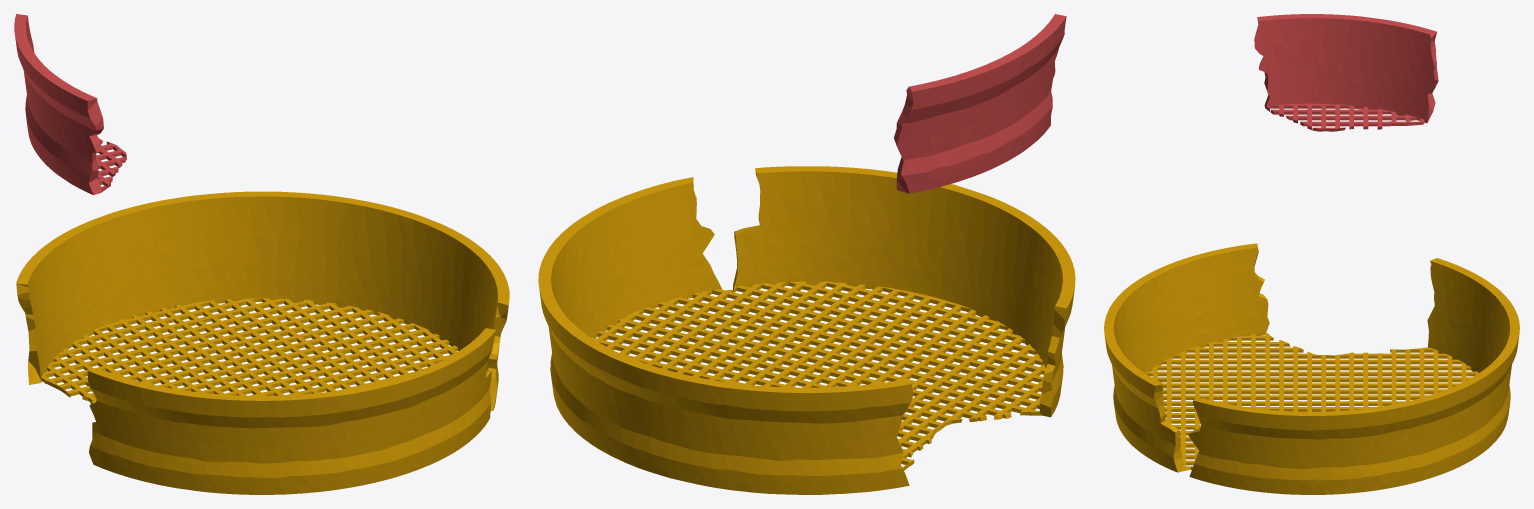
File: fractured_8_2pcs_transformed.glb
3 renders of one model, left to right at view 1: azimuth 30°, elevation 25°; view 2: azimuth 150°, elevation 25°; view 3: azimuth 270°, elevation 25°, orthographic. The views are drawn at different scales.
Visible parts, largest first — view 1: piece_0.obj, piece_1.obj; view 2: piece_0.obj, piece_1.obj; view 3: piece_0.obj, piece_1.obj.
Part boxes in pixels (box(x1,y1,x2,y2)): piece_0.obj: box(16, 191, 509, 494); piece_1.obj: box(14, 14, 126, 194); piece_0.obj: box(538, 166, 1075, 494); piece_1.obj: box(894, 14, 1066, 193); piece_0.obj: box(1104, 243, 1519, 494); piece_1.obj: box(1254, 14, 1438, 131).
Size of the model in its own units: 1 by 0.8226 by 0.9999.
